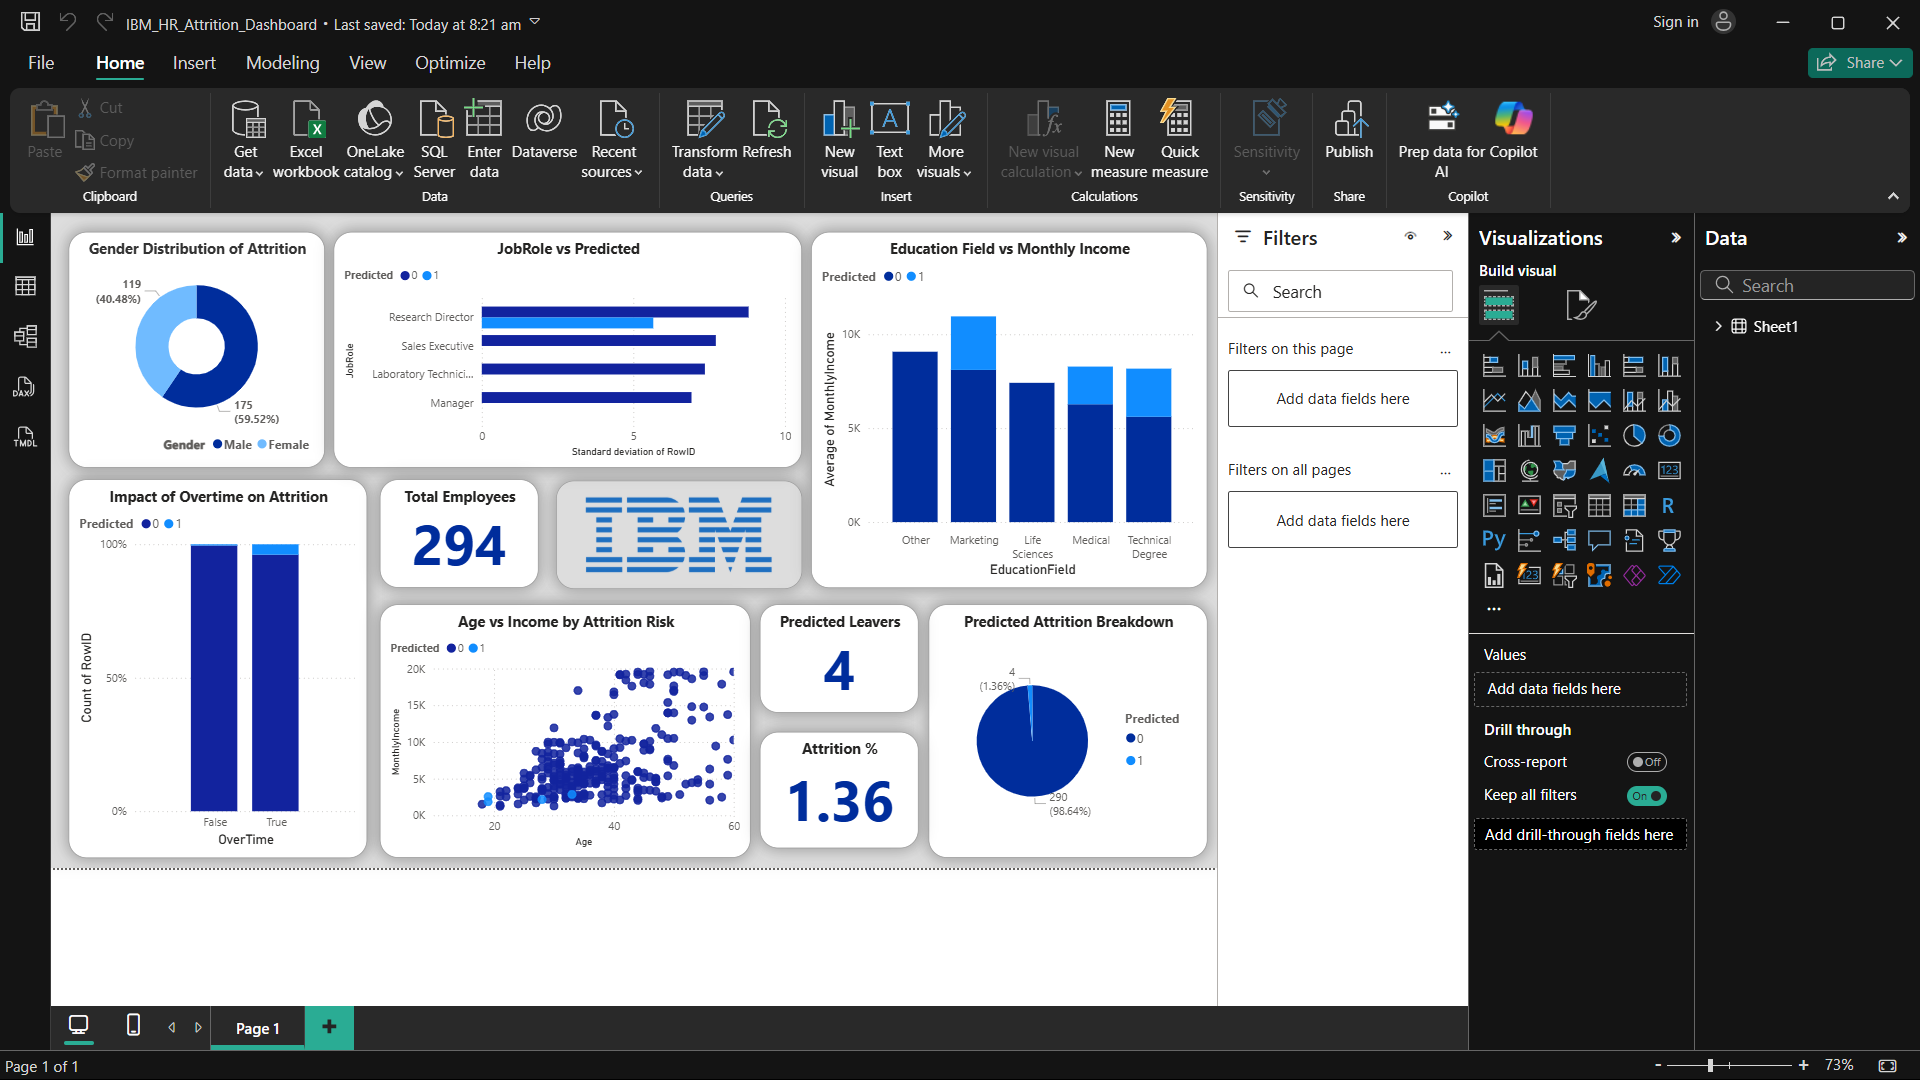

Layout of this report page (visuals, bound fields, positions):
{"tool":"powerbi","page":{"name":"Page 1","canvas":[1280,720],"ordinal":0},"visuals":[{"type":"image","box":[554.4,293.7,270.3,119.4],"z":0},{"type":"donutChart","title":"Gender Distribution of Attrition","fields":{"Category":["Sheet1.Gender"],"Y":["CountNonNull(Sheet1.RowID)"]},"box":[19.2,20.6,281.3,259.3],"z":1000},{"type":"pieChart","title":"Predicted Attrition Breakdown","fields":{"Category":["Sheet1.Predicted"],"Y":["CountNonNull(Sheet1.RowID)"]},"box":[963.3,429.5,306,278.6],"z":2000},{"type":"hundredPercentStackedColumnChart","title":"Impact of Overtime on Attrition","fields":{"Category":["Sheet1.OverTime_Yes"],"Series":["Sheet1.Predicted"],"Y":["CountNonNull(Sheet1.RowID)"]},"box":[19.2,292.3,328,415.8],"z":3000},{"type":"clusteredBarChart","title":"JobRole vs Predicted","fields":{"Category":["Sheet1.JobRole"],"Series":["Sheet1.Predicted"],"Y":["Sum(Sheet1.RowID)"]},"box":[310.1,20.6,514.6,259.3],"z":4000},{"type":"scatterChart","title":"Age vs Income by Attrition Risk","fields":{"X":["Sheet1.Age"],"Y":["Sheet1.MonthlyIncome"],"Series":["Sheet1.Predicted"]},"box":[360.9,429.5,407.5,278.6],"z":5000},{"type":"card","title":"Total Employees","fields":{"Values":["CountNonNull(Sheet1.RowID)"]},"box":[360.9,292.3,174.3,119.4],"z":6000},{"type":"card","title":"Attrition %","fields":{"Values":["Sum(Sheet1.Attrition Rate (%))"]},"box":[778,569.5,174.3,127.6],"z":7000},{"type":"card","title":"Predicted Leavers","fields":{"Values":["Sheet1.Predicted To Leave"]},"box":[778,429.5,174.3,119.4],"z":8000},{"type":"columnChart","title":"Education Field vs Monthly Income","fields":{"Series":["Sheet1.Predicted"],"Y":["Avg(Sheet1.MonthlyIncome)"],"Category":["Sheet1.EducationField"]},"box":[834.3,20.6,435,391.1],"z":9000}]}

Visuals, with their boxes on the page's 1280x720 design canvas (x1, y1, x2, y2). These are canvas units, not pixel positions in the 1920x1080 screenshot, which may show the page scaled, cropped or inside an application window:
image: region(554, 294, 825, 413)
"Gender Distribution of Attrition" donutChart: region(19, 21, 300, 280)
"Predicted Attrition Breakdown" pieChart: region(963, 430, 1269, 708)
"Impact of Overtime on Attrition" hundredPercentStackedColumnChart: region(19, 292, 347, 708)
"JobRole vs Predicted" clusteredBarChart: region(310, 21, 825, 280)
"Age vs Income by Attrition Risk" scatterChart: region(361, 430, 768, 708)
"Total Employees" card: region(361, 292, 535, 412)
"Attrition %" card: region(778, 570, 952, 697)
"Predicted Leavers" card: region(778, 430, 952, 549)
"Education Field vs Monthly Income" columnChart: region(834, 21, 1269, 412)
